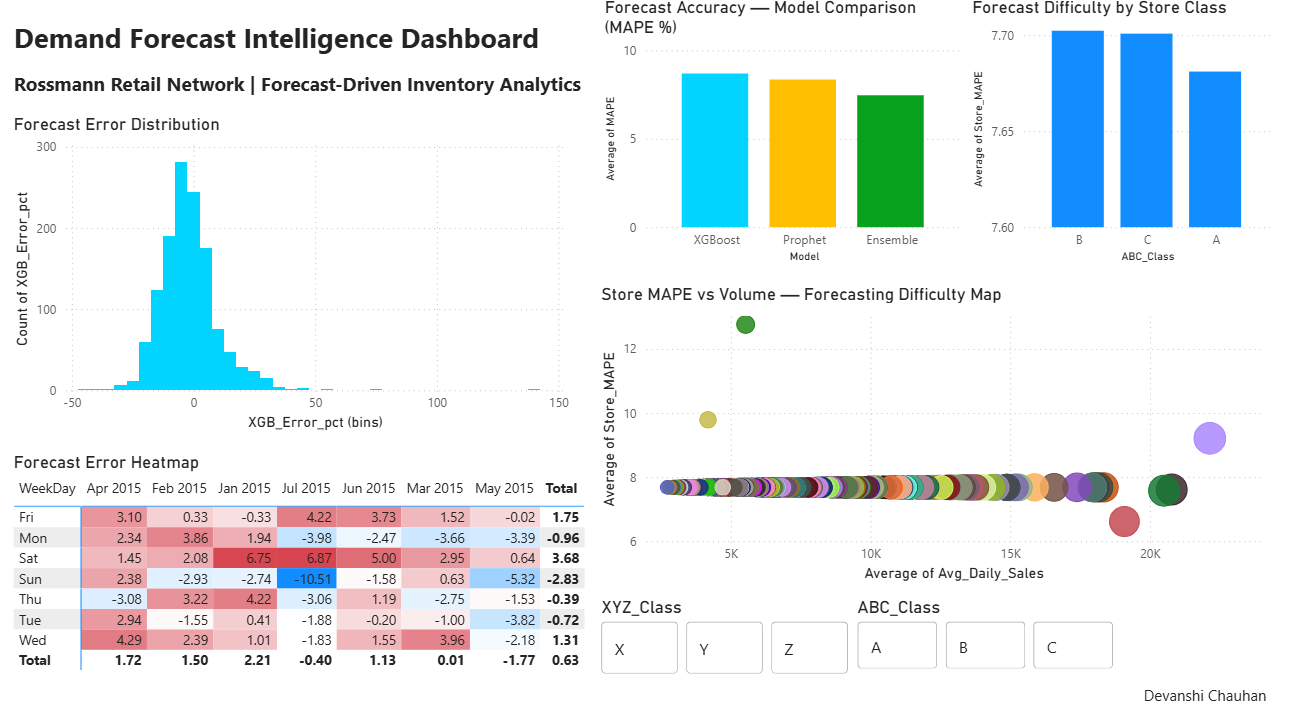

The dashboard page shown, as its layout file describes it:
{"tool":"powerbi","page":{"name":"Demand Forecast Intelligence","canvas":[1280,720],"ordinal":1},"visuals":[{"type":"textbox","box":[18.3,25.7,538,51.4],"z":0},{"type":"textbox","box":[18.5,76.8,574.6,39.8],"z":1000},{"type":"textbox","box":[1123.8,677.4,134.5,31.8],"z":2000},{"type":"clusteredColumnChart","title":"Forecast Accuracy — Model Comparison (MAPE %)","fields":{"Category":["pb_model_metrics.Model"],"Y":["Avg(pb_model_metrics.MAPE)"]},"box":[596.4,10,359.8,265.2],"z":3000},{"type":"clusteredColumnChart","title":"Forecast Error Distribution","fields":{"Category":["pb_forecast_comparison.XGB_Error_pct (bins)"],"Y":["CountNonNull(pb_forecast_comparison.XGB_Error_pct)"]},"box":[18.7,123.3,554.1,315],"z":4000},{"type":"pivotTable","title":"Forecast Error Heatmap","fields":{"Columns":["DateTable.Month"],"Rows":["DateTable.WeekDay"],"Values":["Avg(pb_forecast_comparison.XGB_Error_pct)"]},"box":[18.3,454.9,574.7,222.6],"z":5000},{"type":"scatterChart","title":"Store MAPE vs Volume — Forecasting Difficulty Map","fields":{"Series":["pb_inventory_policy.Store"],"Size":["Avg(pb_inventory_policy.Annual_Cost_Saving)"],"X":["Avg(pb_inventory_policy.Avg_Daily_Sales)"],"Y":["Avg(pb_inventory_policy.Store_MAPE)"]},"box":[592.7,290.1,666.1,296.3],"z":6000},{"type":"advancedSlicerVisual","fields":{"Values":["pb_inventory_policy.ABC_Class"]},"box":[844.2,596.4,262.7,76],"z":7000},{"type":"advancedSlicerVisual","fields":{"Values":["pb_inventory_policy.XYZ_Class"]},"box":[592.7,596.4,251.5,80.9],"z":8000},{"type":"clusteredColumnChart","title":"Forecast Difficulty by Store Class","fields":{"Category":["pb_inventory_policy.ABC_Class"],"Y":["Avg(pb_inventory_policy.Store_MAPE)"]},"box":[956.3,10,302.6,265.2],"z":9000}]}

Visuals, with their boxes on the page's 1280x720 design canvas (x1, y1, x2, y2). These are canvas units, not pixel positions in the 1291x705 screenshot, which may show the page scaled, cropped or inside an application window:
textbox: 18/26/556/77
textbox: 18/77/593/117
textbox: 1124/677/1258/709
"Forecast Accuracy — Model Comparison (MAPE %)" clusteredColumnChart: 596/10/956/275
"Forecast Error Distribution" clusteredColumnChart: 19/123/573/438
"Forecast Error Heatmap" pivotTable: 18/455/593/678
"Store MAPE vs Volume — Forecasting Difficulty Map" scatterChart: 593/290/1259/586
advancedSlicerVisual - pb_inventory_policy.ABC_Class: 844/596/1107/672
advancedSlicerVisual - pb_inventory_policy.XYZ_Class: 593/596/844/677
"Forecast Difficulty by Store Class" clusteredColumnChart: 956/10/1259/275
